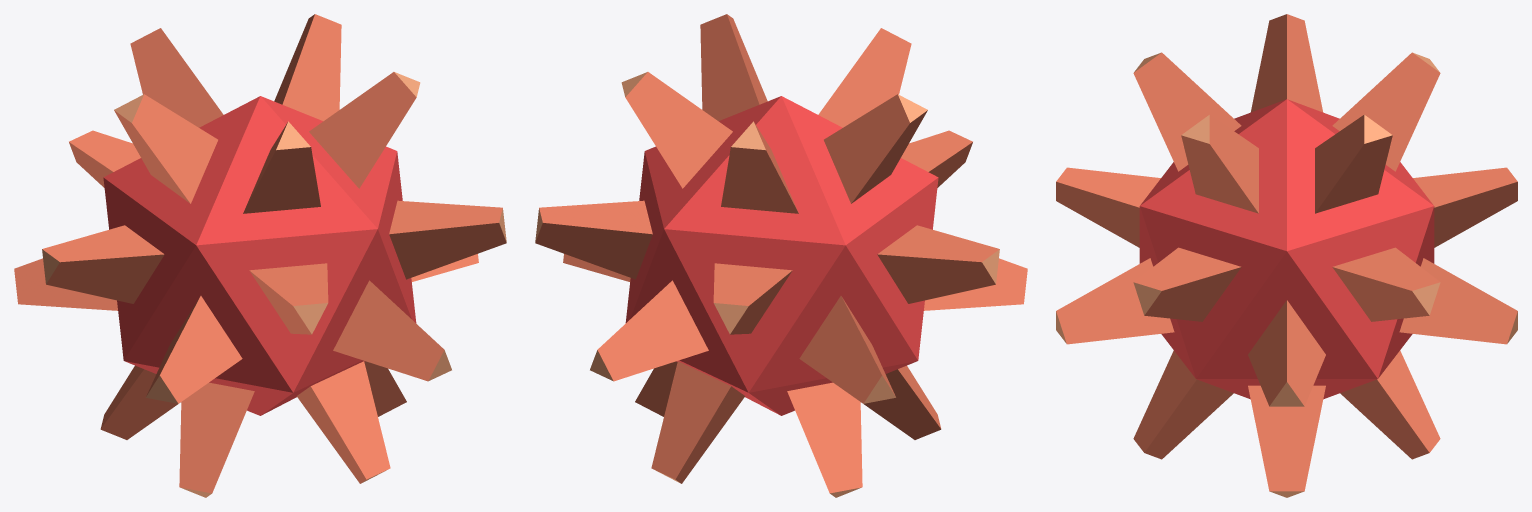
Rendered from lv5_boss_bullet.fbx.
3 views of the same model, side by side, from view 1: azimuth 30°, elevation 25°; view 2: azimuth 150°, elevation 25°; view 3: azimuth 270°, elevation 25° (orthographic). The views are drawn at different scales.
Visible parts, largest first — view 1: Lv5_boss_bullet_1; view 2: Lv5_boss_bullet_1; view 3: Lv5_boss_bullet_1.
Boxes of the visible parts, box(x1,y1,x2,y2) form: Lv5_boss_bullet_1: box(14, 14, 506, 497); Lv5_boss_bullet_1: box(535, 14, 1027, 497); Lv5_boss_bullet_1: box(1056, 14, 1517, 497).
Size of the model in its own units: 140 by 119 by 133.
